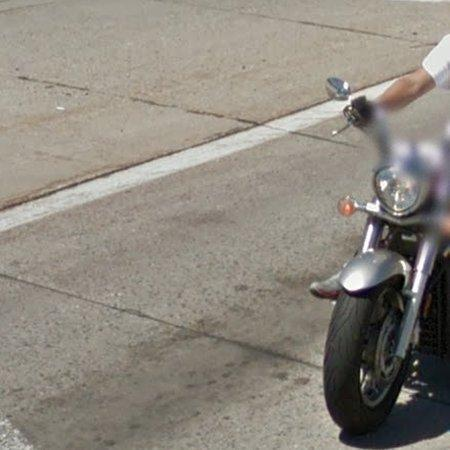motorcycles: (311, 97, 450, 436)
